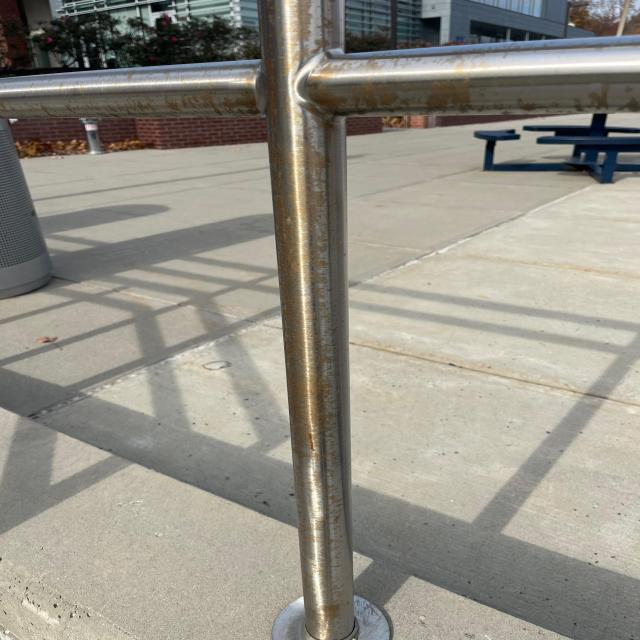Uniform Corrosion: (105, 1, 636, 640)
